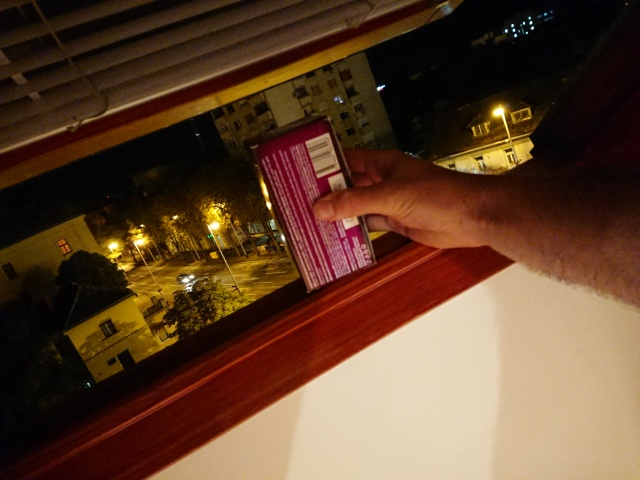Franck Black Currant Tea 60g: (241, 113, 381, 296)
